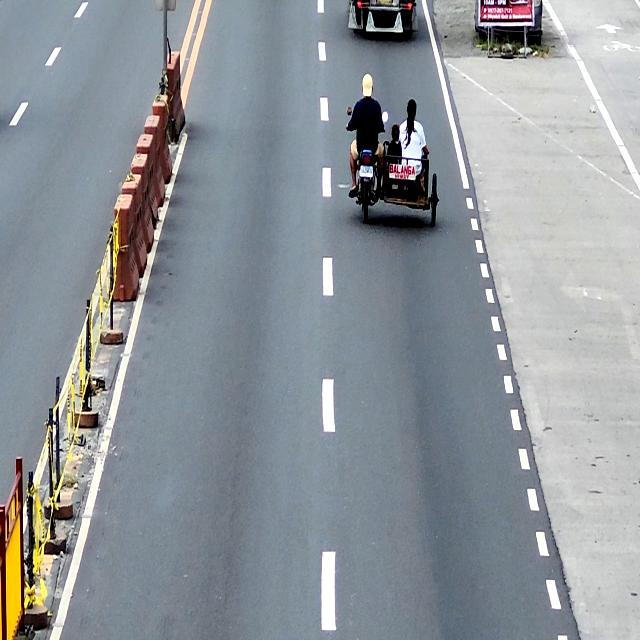License-Plate: (359, 165, 373, 178)
Tricycle: (348, 107, 438, 228)
